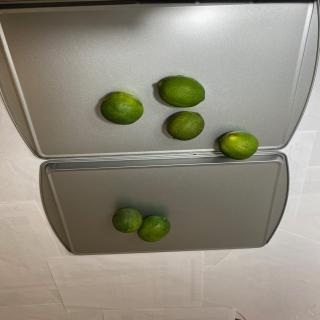Lemon: (157, 74, 205, 108), (100, 91, 144, 125), (218, 131, 259, 160), (166, 110, 205, 140), (137, 215, 171, 242), (111, 208, 142, 233)
